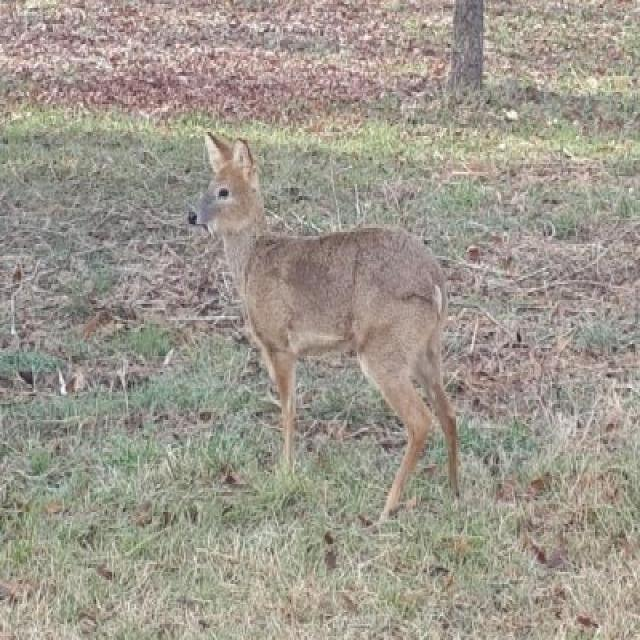deer: (178, 125, 472, 526)
